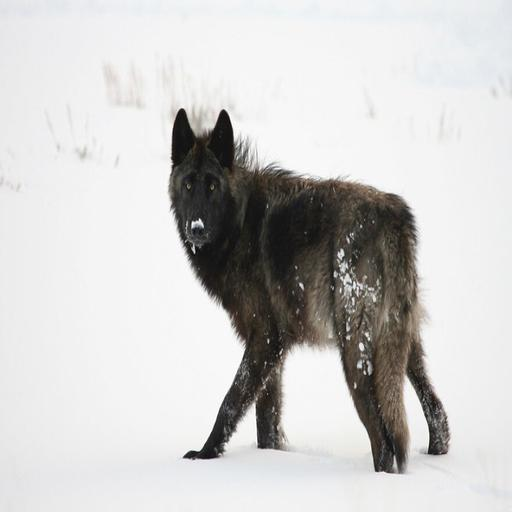Wolf: (163, 105, 463, 473)
